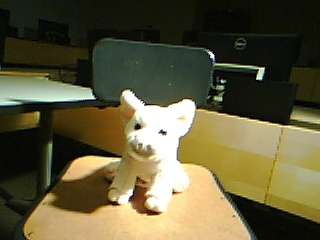piggy: (103, 87, 197, 215)
